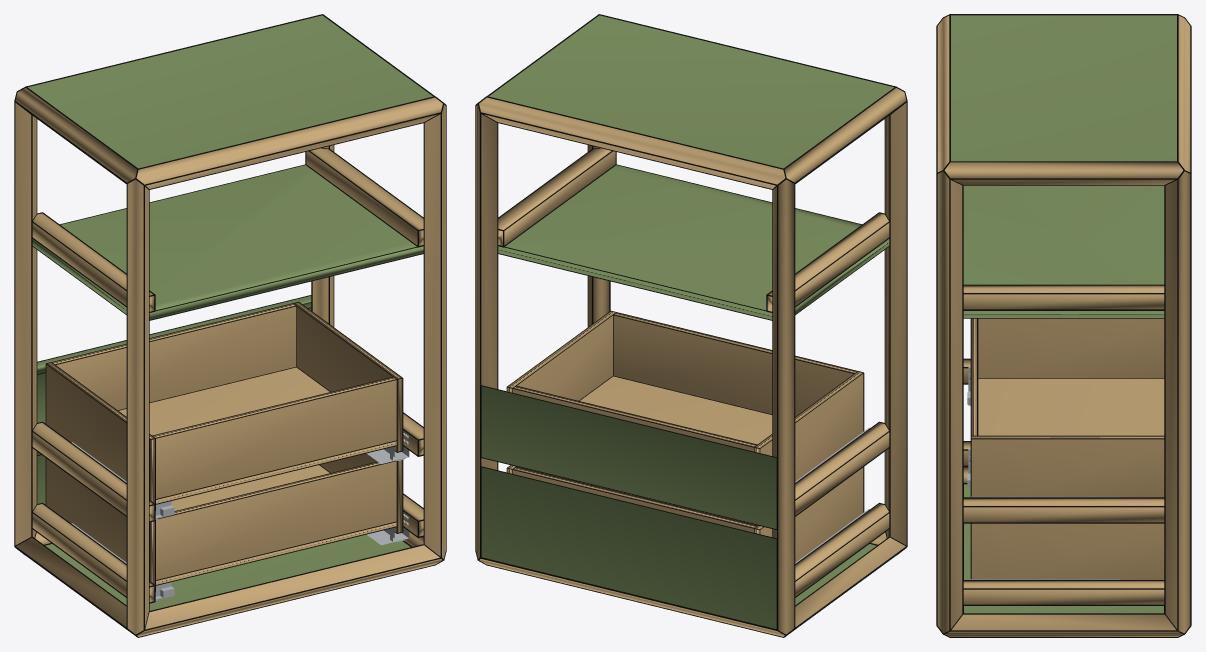
File: 005-commode.glb
The picture shows the model from 3 angles, left to right: view 1: azimuth 30°, elevation 25°; view 2: azimuth 150°, elevation 25°; view 3: azimuth 270°, elevation 25°; orthographic projection.
Visible parts, largest first — view 1: panneau-dessus_exterieur, tablette-plate-mod-0, drawer-box-avant-mod-2, drawer-box-avant-mod-1, drawer-box-arriere-mod-2, arete-Z0, arete-Z1, arete-Z2, drawer-box-dessous-mod-2, arete-X2, arete-X0, panneau-dessous (+31 smaller); view 2: panneau-dessus_exterieur, tablette-plate-mod-0, drawer-box-facade-mod-1, drawer-box-facade-mod-2, drawer-box-avant-mod-2, arete-Z0, arete-Z2, arete-X3, arete-Z3, drawer-box-dessous-mod-2, drawer-box-joue_g-mod-2, drawer-box-joue_d-mod-2 (+26 smaller); view 3: panneau-dessus_exterieur, tablette-plate-mod-0, drawer-box-joue_d-mod-2, arete-Z1, arete-Z3, drawer-box-joue_g-mod-2, drawer-box-joue_d-mod-1, drawer-box-dessous-mod-2, arete-Y3, arete-Y1, tablette-traverse-right-mod-0, drawer-tr-drawer-traverse-right-mod-1 (+17 smaller).
Part boxes in pixels (<box>): panneau-dessus_exterieur: <box>28,15,432,168</box>; tablette-plate-mod-0: <box>32,165,423,319</box>; drawer-box-avant-mod-2: <box>153,377,396,498</box>; drawer-box-avant-mod-1: <box>156,461,396,579</box>; drawer-box-arriere-mod-2: <box>52,304,296,410</box>; arete-Z0: <box>127,179,148,634</box>; arete-Z1: <box>424,104,445,558</box>; arete-Z2: <box>15,103,36,545</box>; drawer-box-dessous-mod-2: <box>119,367,396,503</box>; arete-X2: <box>136,97,442,188</box>; arete-X0: <box>137,545,442,636</box>; panneau-dessous: <box>45,534,410,610</box>; panneau-dessus_exterieur: <box>489,15,893,168</box>; tablette-plate-mod-0: <box>498,165,889,319</box>; drawer-box-facade-mod-1: <box>481,467,776,628</box>; drawer-box-facade-mod-2: <box>481,386,776,528</box>; drawer-box-avant-mod-2: <box>613,312,856,416</box>; arete-Z0: <box>885,103,906,545</box>; arete-Z2: <box>773,179,794,634</box>; arete-X3: <box>479,97,785,188</box>; arete-Z3: <box>476,104,497,558</box>; drawer-box-dessous-mod-2: <box>580,376,772,444</box>; drawer-box-joue_g-mod-2: <box>754,371,863,481</box>; drawer-box-joue_d-mod-2: <box>507,311,615,400</box>; panneau-dessus_exterieur: <box>951,15,1176,161</box>; tablette-plate-mod-0: <box>963,185,1164,317</box>; drawer-box-joue_d-mod-2: <box>971,436,1164,497</box>; arete-Z1: <box>937,171,962,633</box>; arete-Z3: <box>1165,171,1190,633</box>; drawer-box-joue_g-mod-2: <box>978,318,1164,377</box>; drawer-box-joue_d-mod-1: <box>971,523,1164,579</box>; drawer-box-dessous-mod-2: <box>978,378,1164,435</box>; arete-Y3: <box>944,162,1183,184</box>; arete-Y1: <box>945,614,1182,636</box>; tablette-traverse-right-mod-0: <box>963,285,1164,309</box>; drawer-tr-drawer-traverse-right-mod-1: <box>963,581,1164,604</box>.
Bounding box in the file's own units: 0.6238 × 0.8738 × 0.4238.
